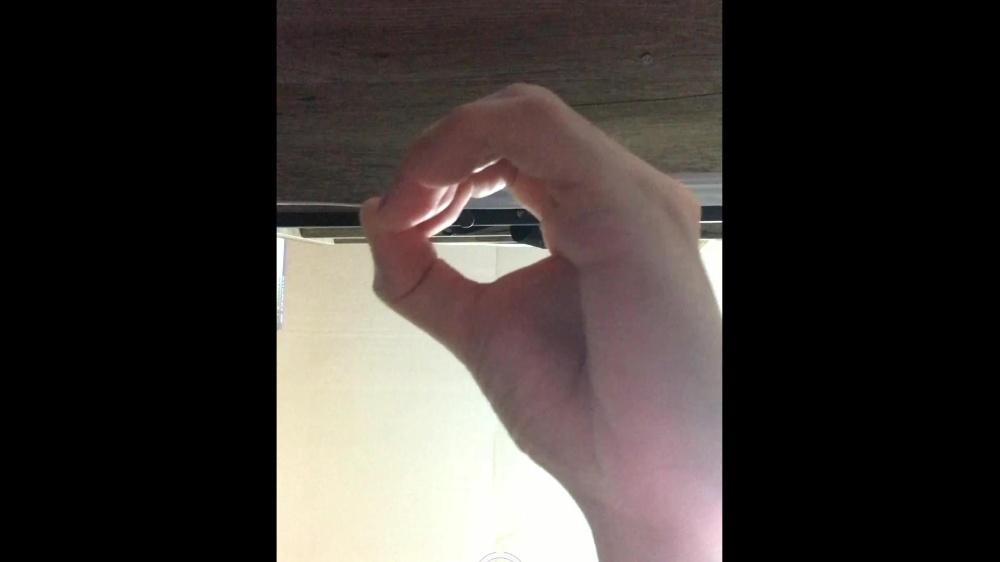o: (359, 81, 714, 477)
